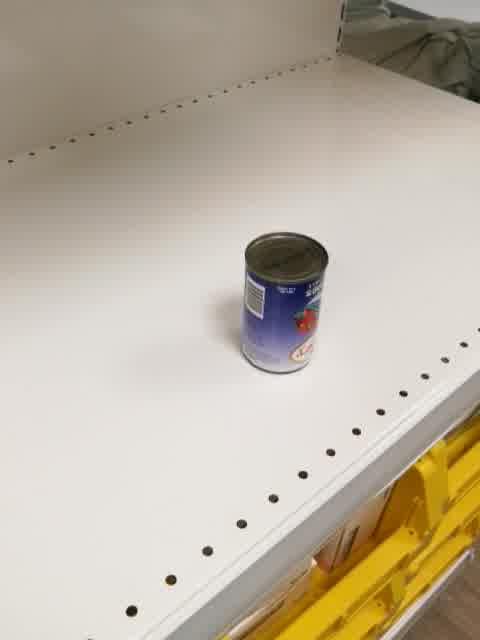sardine: (238, 230, 329, 376)
